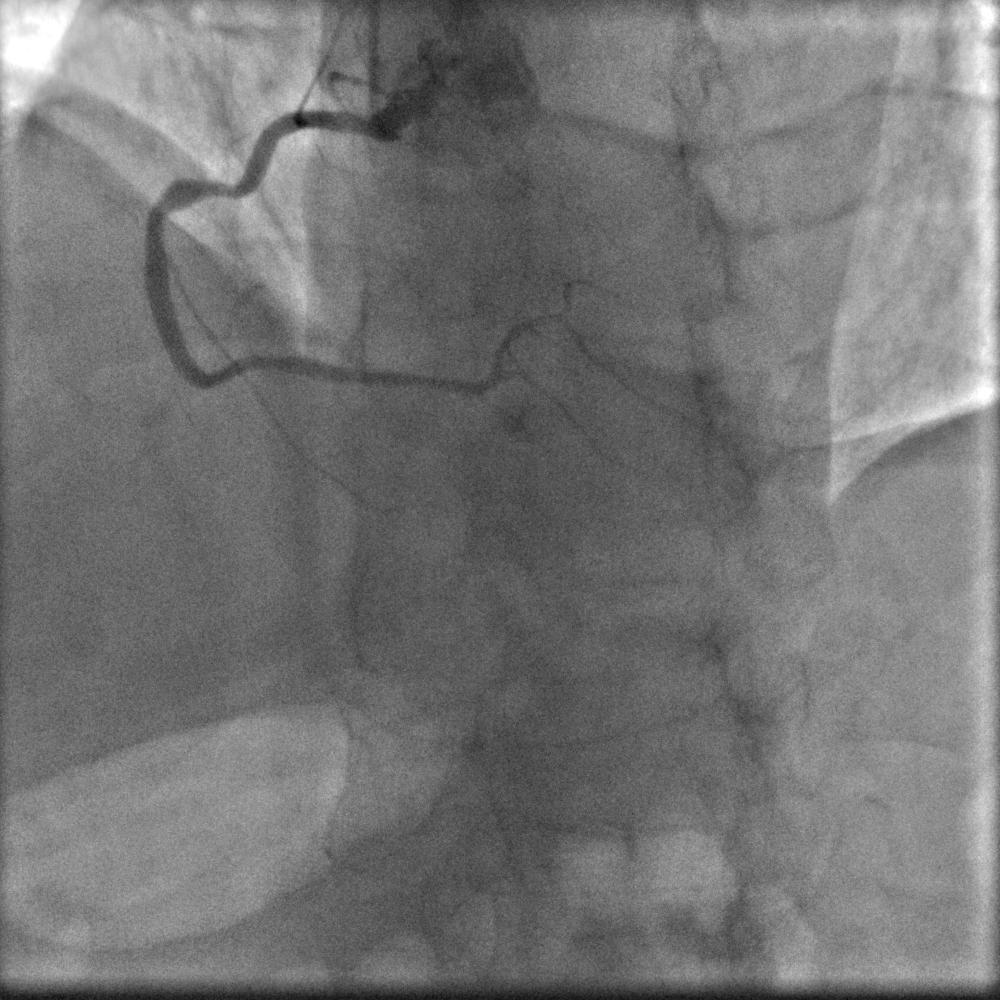Stenosis: (140, 190, 173, 227)
